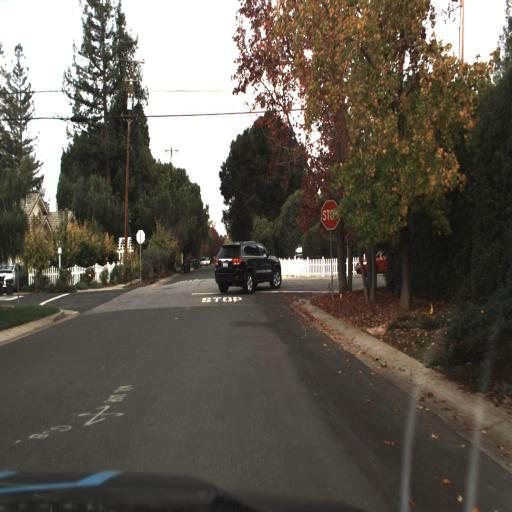car: (212, 231, 286, 296), (354, 241, 393, 282), (197, 254, 209, 270), (204, 255, 212, 268)
